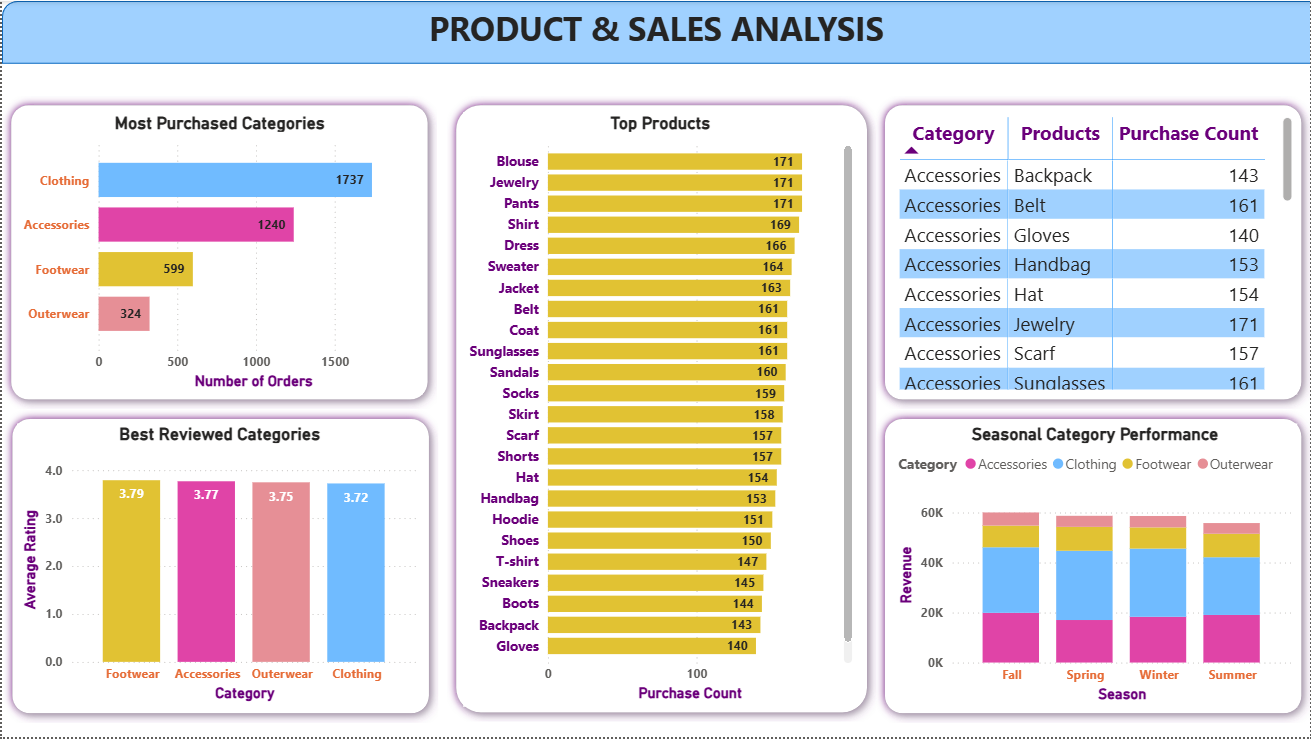

This screenshot's page, from the dashboard's own definition file:
{"tool":"powerbi","page":{"name":"Page 3","canvas":[1280,720],"ordinal":2},"visuals":[{"type":"shape","box":[0,0,1500.3,61.3],"z":0},{"type":"textbox","box":[0,0,1280.3,61.1],"z":1000},{"type":"shape","box":[0,93.3,425.4,306],"z":2000},{"type":"shape","box":[435,93.3,419.9,612],"z":3000},{"type":"clusteredBarChart","title":"Most Purchased Categories","fields":{"Category":["public customer.category"],"Y":["public customer.Total Customers"]},"box":[15.1,108.4,396.6,275.8],"z":4000},{"type":"clusteredBarChart","title":"Top Products","fields":{"Category":["public customer.item_purchased"],"Y":["public customer.Purchase Count"]},"box":[451.5,108.4,385.6,581.8],"z":5000},{"type":"shape","box":[1.4,399.3,425.4,306],"z":6000},{"type":"shape","box":[854.9,93.3,425.4,306],"z":7000},{"type":"shape","box":[854.9,399.3,425.4,306],"z":8000},{"type":"tableEx","fields":{"Values":["public customer.category","public customer.item_purchased","public customer.Purchase Count"]},"box":[871.4,108.4,395.2,275.8],"z":9000},{"type":"clusteredColumnChart","title":"Best Reviewed Categories","fields":{"Category":["public customer.category"],"Y":["public customer.Average Review Rating"]},"box":[15.1,413,396.6,277.2],"z":10000},{"type":"columnChart","title":"Seasonal Category Performance","fields":{"Category":["public customer.season"],"Y":["public customer.Total Revenue"],"Series":["public customer.category"]},"box":[871.9,413.3,395,277.6],"z":11000}]}

Visuals, with their boxes in screenshot pixels (x1, y1, x2, y2), scaled from the page's 1280x720 canvas onto the 1311x740 screenshot:
shape: [x1=0, y1=0, x2=1310, y2=63]
textbox: [x1=0, y1=0, x2=1310, y2=63]
shape: [x1=0, y1=96, x2=436, y2=410]
shape: [x1=446, y1=96, x2=876, y2=725]
"Most Purchased Categories" clusteredBarChart: [x1=15, y1=111, x2=422, y2=395]
"Top Products" clusteredBarChart: [x1=462, y1=111, x2=857, y2=709]
shape: [x1=1, y1=410, x2=437, y2=725]
shape: [x1=876, y1=96, x2=1310, y2=410]
shape: [x1=876, y1=410, x2=1310, y2=725]
tableEx - public customer.category x public customer.item_purchased: [x1=893, y1=111, x2=1297, y2=395]
"Best Reviewed Categories" clusteredColumnChart: [x1=15, y1=424, x2=422, y2=709]
"Seasonal Category Performance" columnChart: [x1=893, y1=425, x2=1298, y2=710]
